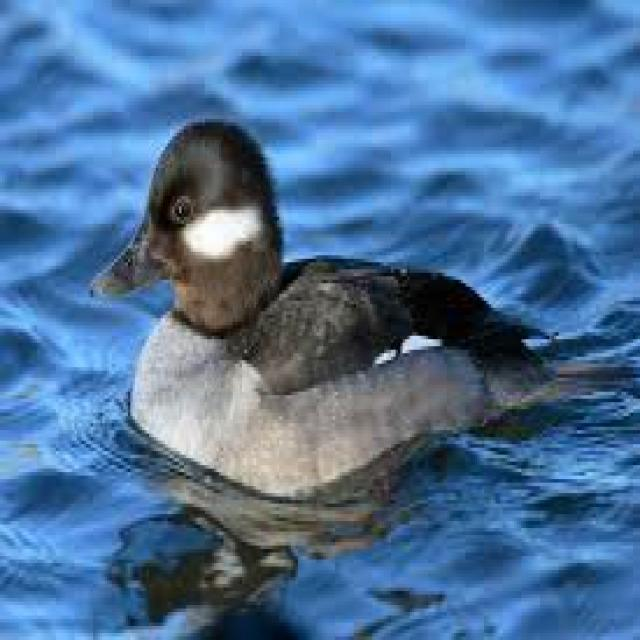duck: (95, 119, 547, 493)
